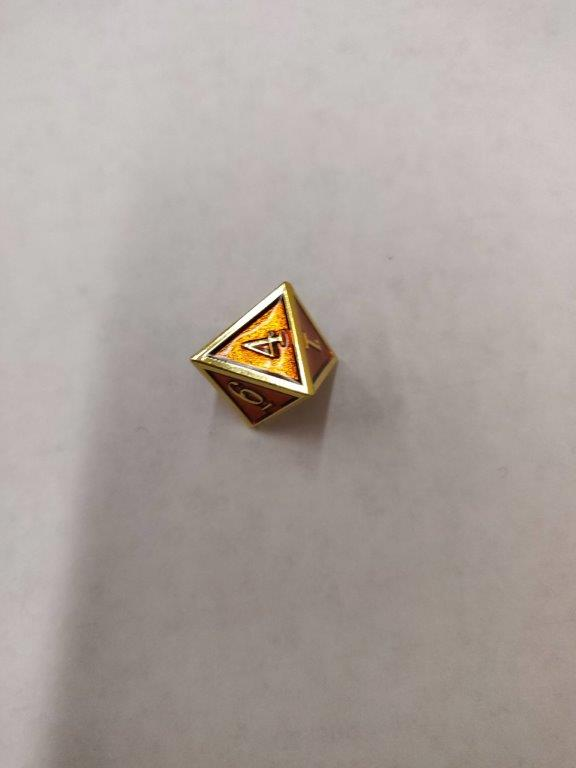d8-4: (187, 281, 341, 431)
